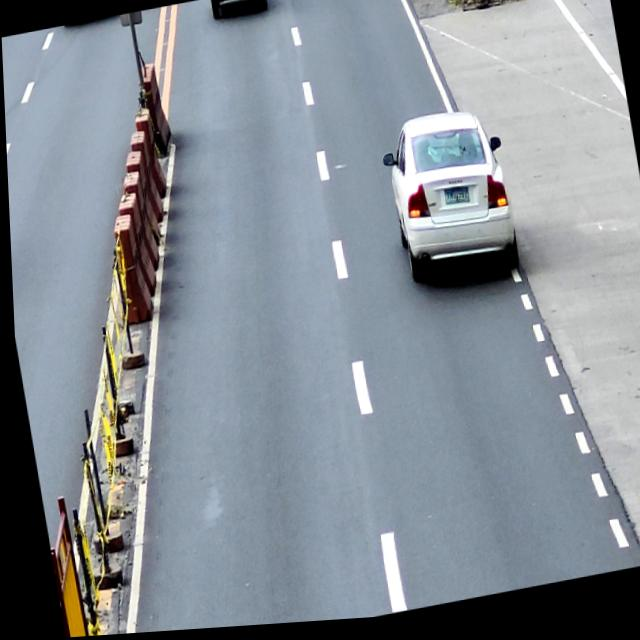Car: (374, 106, 521, 298)
License-Plate: (441, 189, 469, 214)
